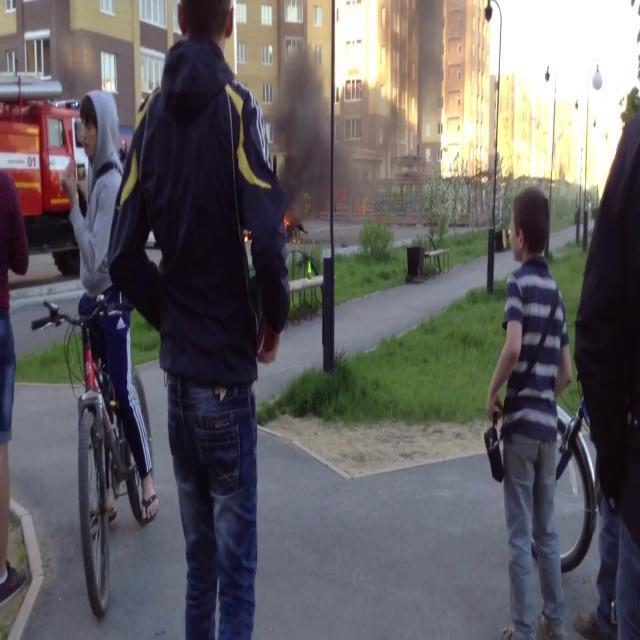Smoke: (263, 32, 417, 224)
